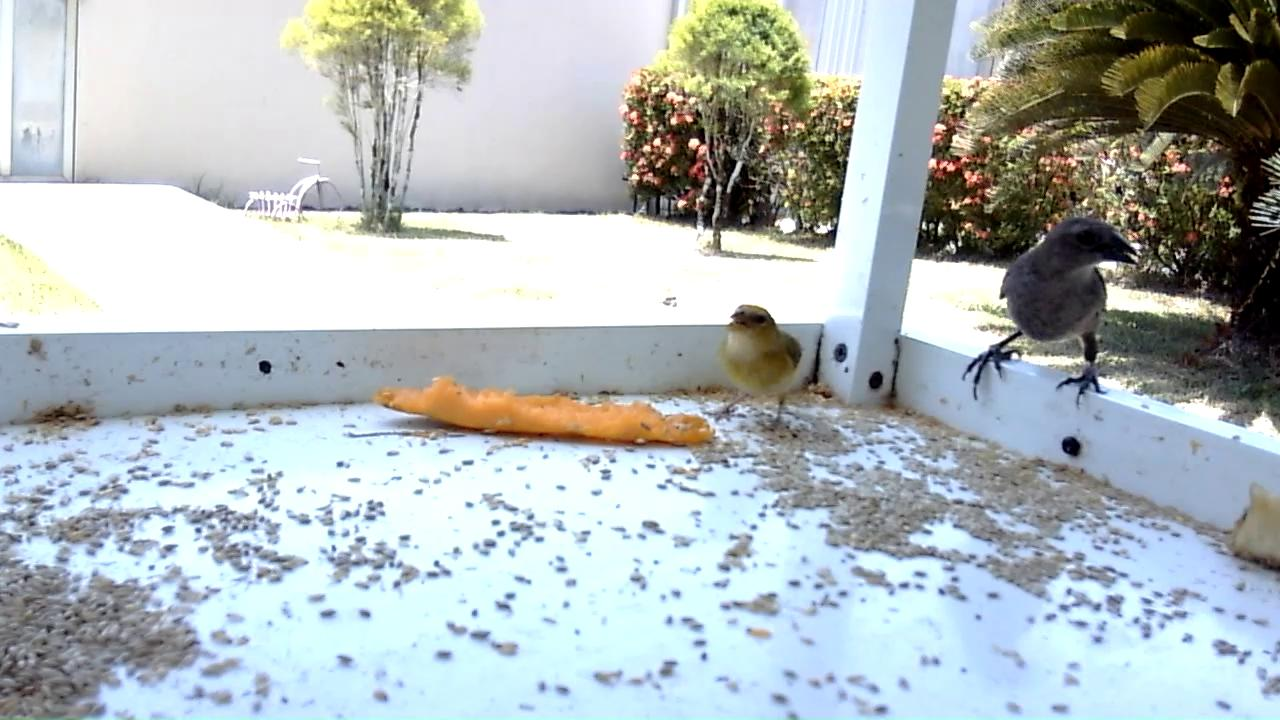canario_do_amazonas: (706, 301, 808, 432)
chupim: (959, 216, 1142, 414)
